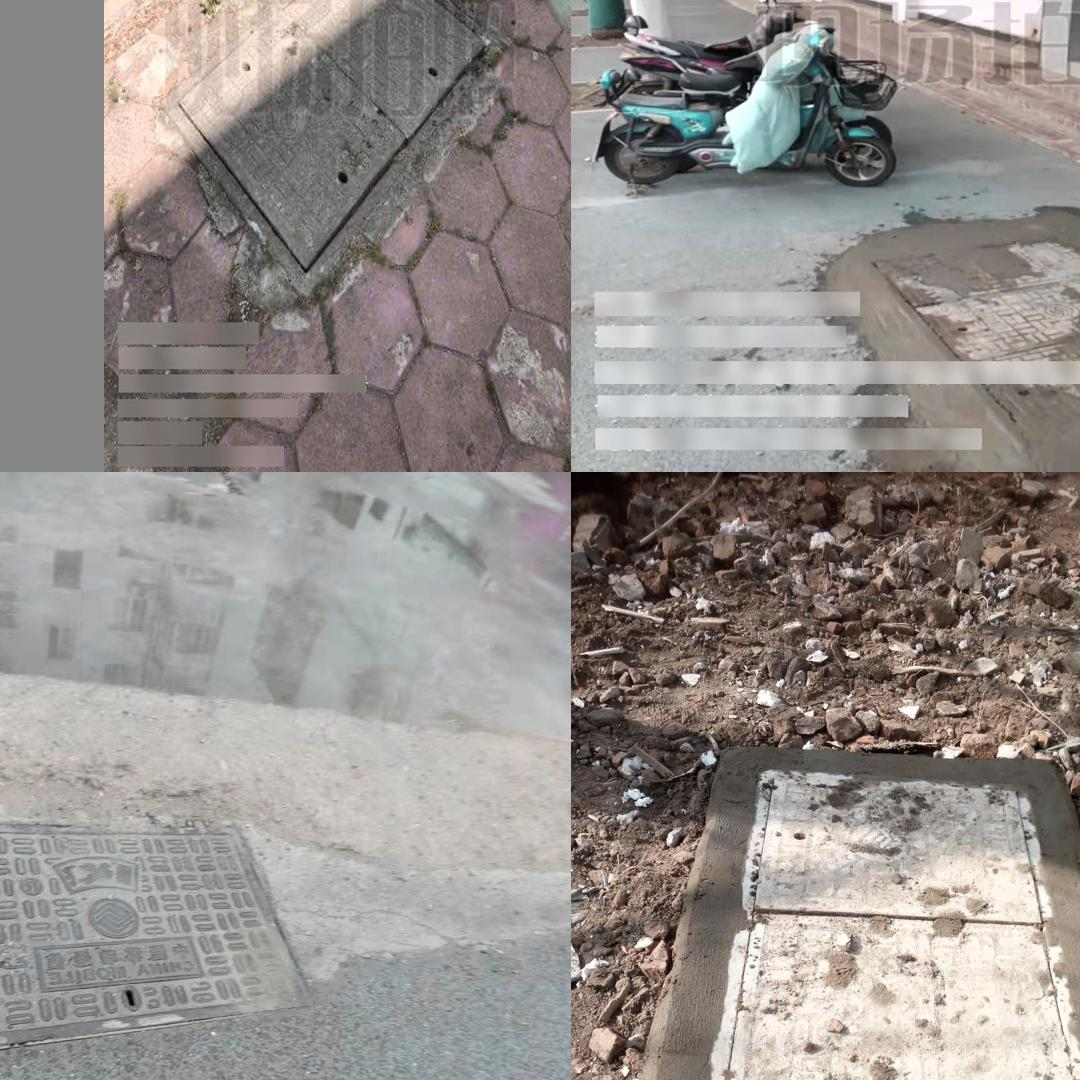good: (706, 768, 1080, 1080), (160, 0, 502, 301), (790, 198, 1080, 467), (0, 821, 308, 1068)
